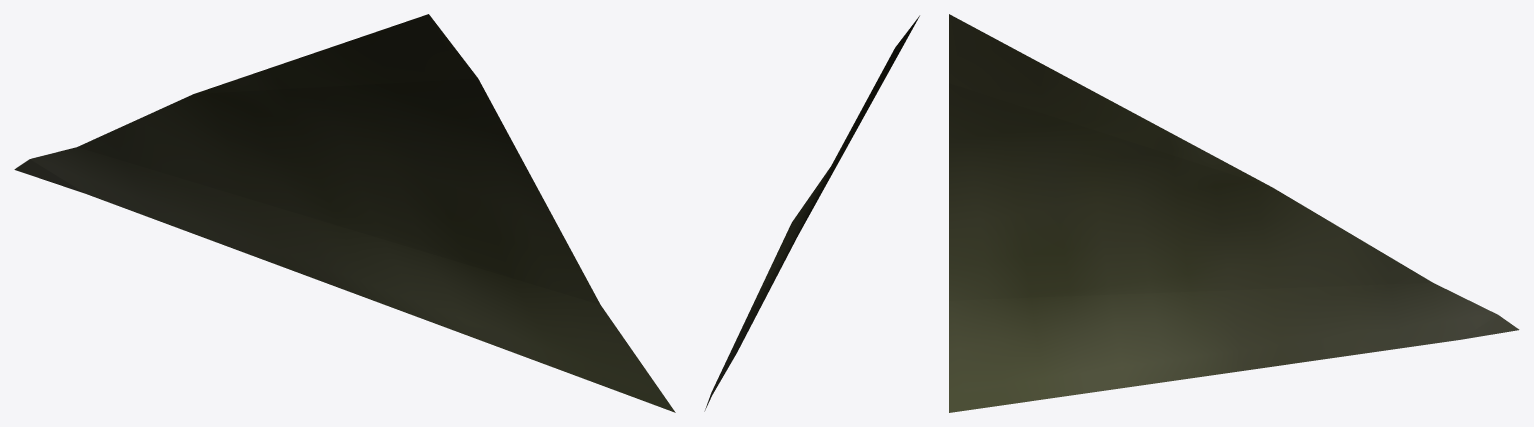
The picture shows the model from 3 angles, left to right: view 1: azimuth 30°, elevation 25°; view 2: azimuth 150°, elevation 25°; view 3: azimuth 270°, elevation 25°; orthographic projection. The views are drawn at different scales.
Bounding box in the file's own units: 0.946 × 1.68 × 2.75.
Materials: 1 (1 with a texture image).
